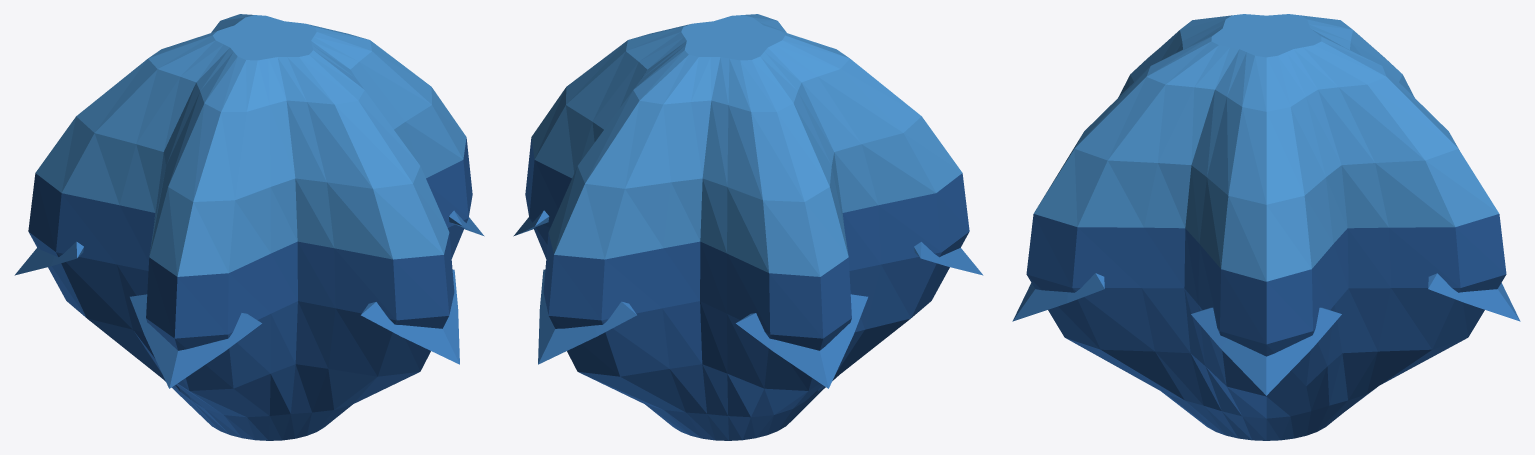
File: BlueMapleLeaves.obj
3 views of the same model, side by side, from view 1: azimuth 30°, elevation 25°; view 2: azimuth 150°, elevation 25°; view 3: azimuth 270°, elevation 25° (orthographic).
Parts seen in each view (by area): view 1: BlueMapleLeaves_BlueMapleCrown, BlueMapleLeaves_BlueMapleFoliage, BlueMapleLeaves_BlueMapleLeafTips; view 2: BlueMapleLeaves_BlueMapleCrown, BlueMapleLeaves_BlueMapleFoliage, BlueMapleLeaves_BlueMapleLeafTips; view 3: BlueMapleLeaves_BlueMapleCrown, BlueMapleLeaves_BlueMapleFoliage, BlueMapleLeaves_BlueMapleLeafTips.
Part boxes in pixels (x1,y1,x2,y2): BlueMapleLeaves_BlueMapleCrown: (35, 14, 466, 276); BlueMapleLeaves_BlueMapleFoliage: (28, 138, 472, 440); BlueMapleLeaves_BlueMapleLeafTips: (14, 210, 484, 388); BlueMapleLeaves_BlueMapleCrown: (531, 14, 962, 276); BlueMapleLeaves_BlueMapleFoliage: (525, 138, 969, 440); BlueMapleLeaves_BlueMapleLeafTips: (513, 210, 983, 388); BlueMapleLeaves_BlueMapleCrown: (1033, 14, 1499, 281); BlueMapleLeaves_BlueMapleFoliage: (1026, 214, 1506, 440); BlueMapleLeaves_BlueMapleLeafTips: (1012, 273, 1520, 395).
Bounding box in the file's own units: 3.08 × 2.8 × 3.4.
